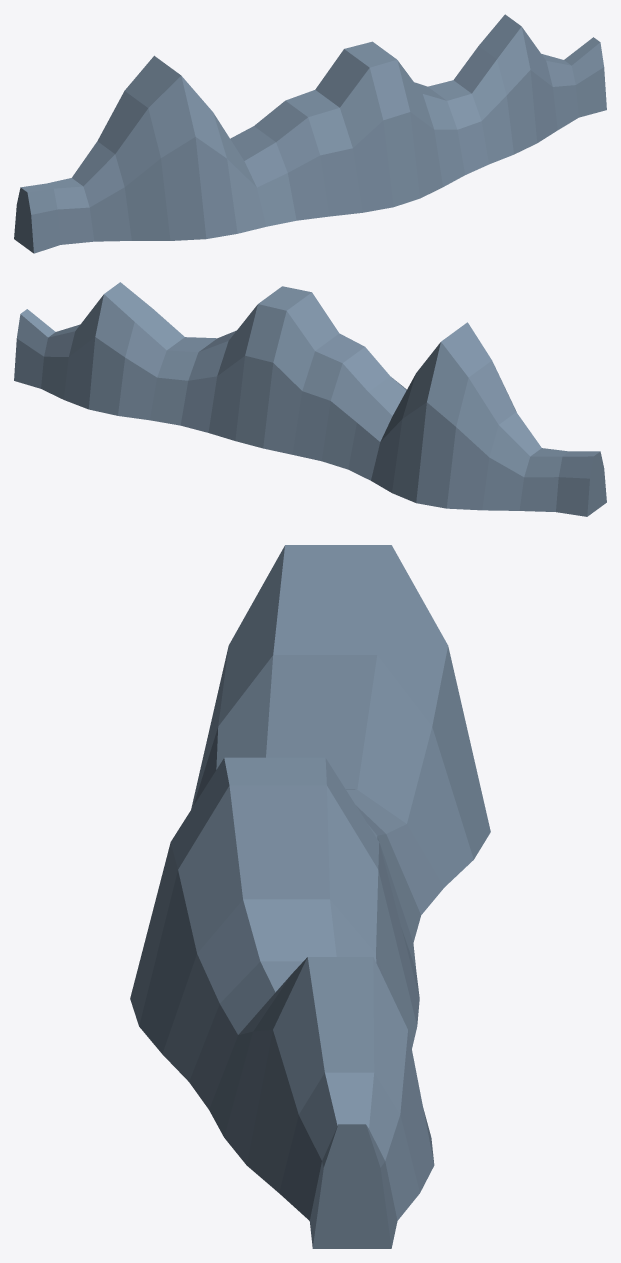
Rendered from DistantIsleS.fbx.
The picture shows the model from 3 angles, top to bottom: view 1: azimuth 30°, elevation 25°; view 2: azimuth 150°, elevation 25°; view 3: azimuth 270°, elevation 25°; orthographic projection. The views are drawn at different scales.
Visible parts, largest first — view 1: DistantIsleS; view 2: DistantIsleS; view 3: DistantIsleS.
Part boxes in pixels (bbox=[...]): DistantIsleS: bbox=[14, 14, 606, 253]; DistantIsleS: bbox=[14, 282, 606, 516]; DistantIsleS: bbox=[130, 545, 490, 1248].
Bounding box in the file's own units: 4000 × 963 × 1098.
